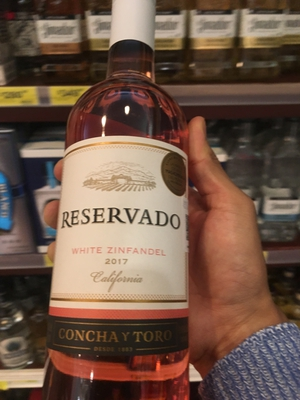reservado white zinfandel: (49, 9, 186, 393)
